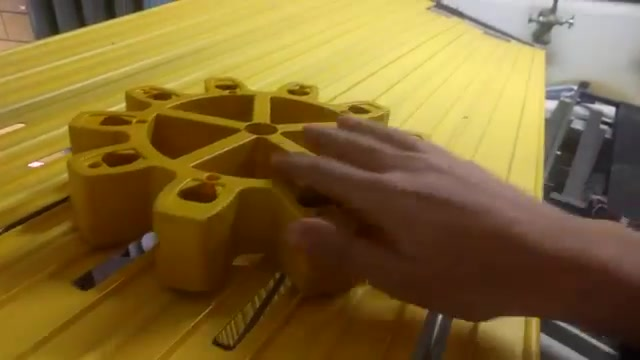gear: (61, 59, 442, 318)
